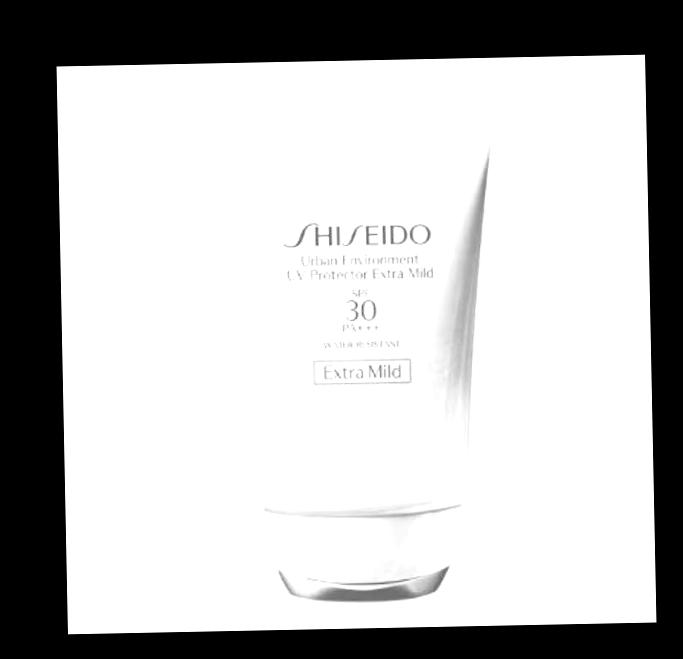cosmetic: (220, 123, 503, 609)
